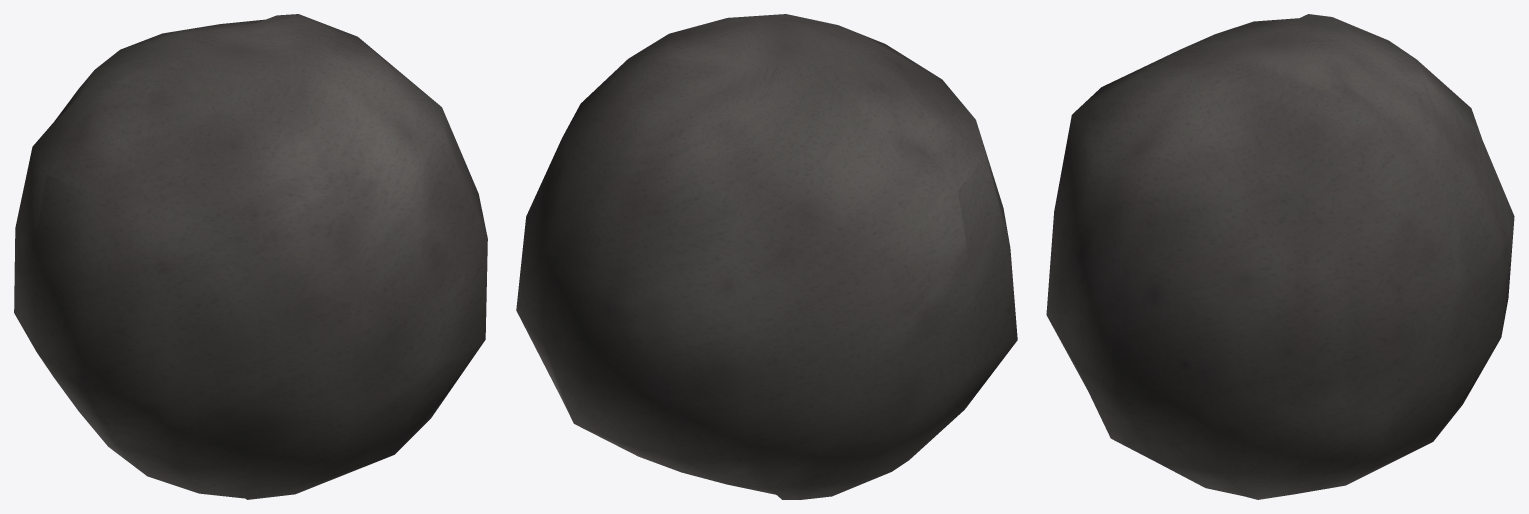
The model's file is Rock.fbx.
3 views of the same model, side by side, from view 1: azimuth 30°, elevation 25°; view 2: azimuth 150°, elevation 25°; view 3: azimuth 270°, elevation 25° (orthographic). The views are drawn at different scales.
Parts seen in each view (by area): view 1: Rock; view 2: Rock; view 3: Rock.
Boxes of the visible parts, box(x1,y1,x2,y2) form: Rock: box(14, 14, 487, 499); Rock: box(516, 14, 1017, 499); Rock: box(1046, 14, 1514, 499).
Bounding box in the file's own units: 211 × 205 × 208.
1 material, 1 textured.
